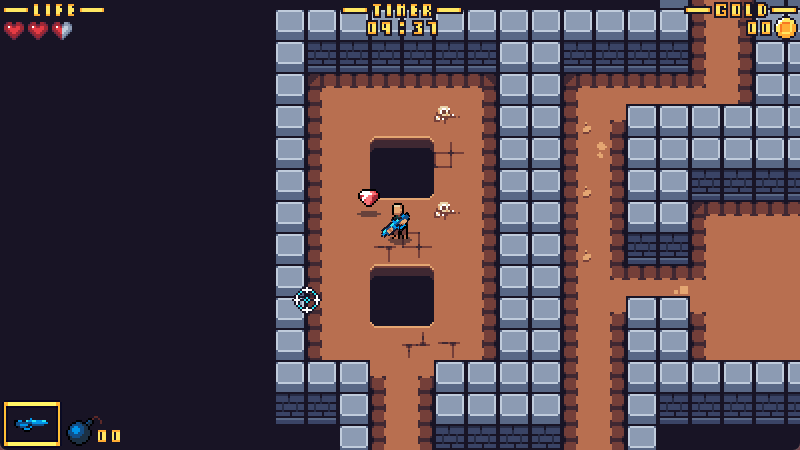aim: (292, 286, 321, 313)
bomb_counter_0: (68, 415, 122, 450)
gold_counter: (685, 1, 800, 40)
health-1: (1, 20, 76, 44)
player: (381, 202, 411, 244)
pot: (356, 188, 381, 208)
timer: (342, 1, 461, 35)
